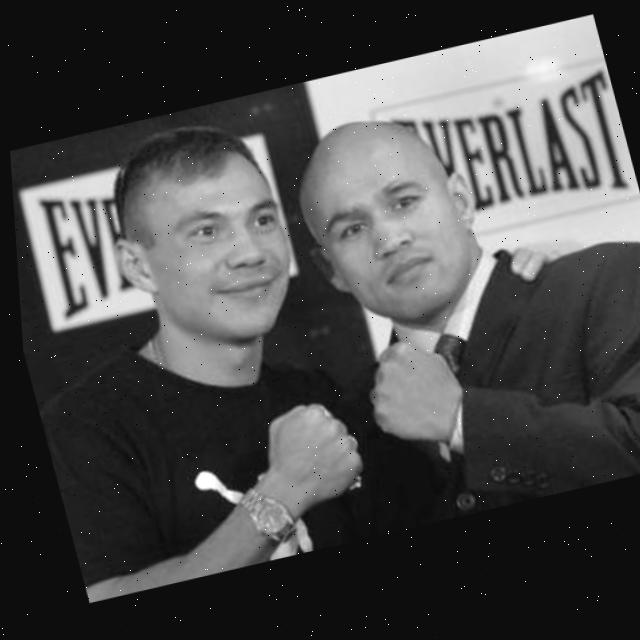face: (288, 91, 502, 355), (111, 133, 314, 364)
